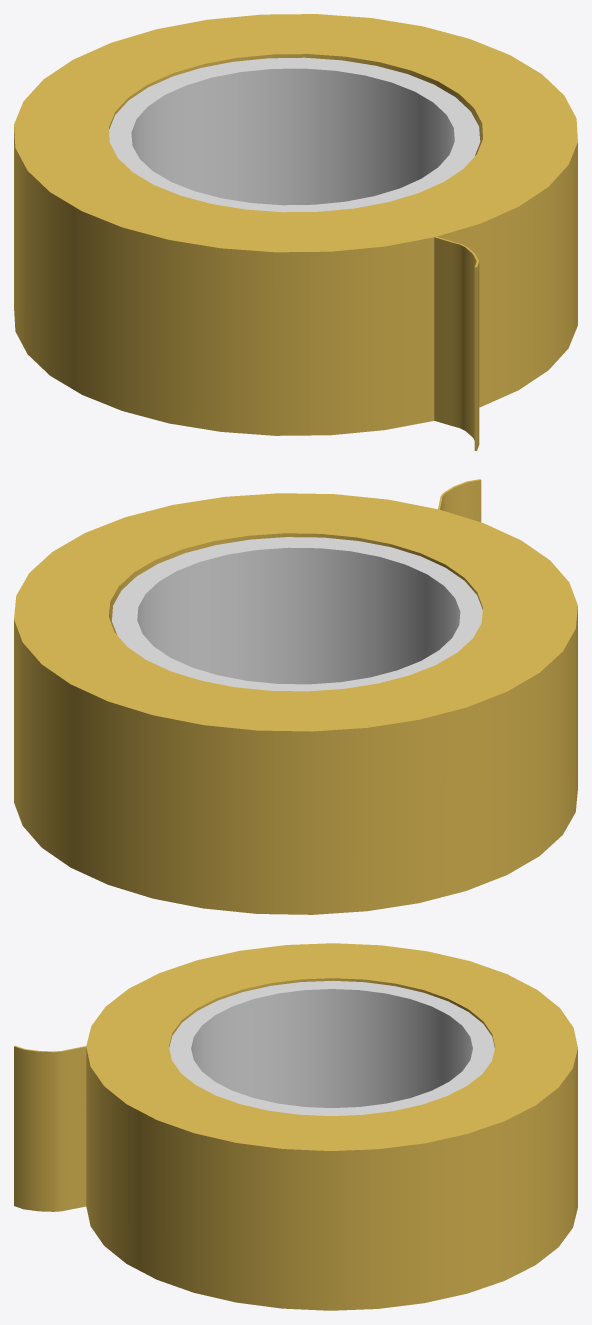
The model's file is koli_bandi.fbx.
3 renders of one model, top to bottom at view 1: azimuth 30°, elevation 25°; view 2: azimuth 150°, elevation 25°; view 3: azimuth 270°, elevation 25°, orthographic. The views are drawn at different scales.
Parts seen in each view (by area): view 1: Cylinder, Cylinder.001; view 2: Cylinder, Cylinder.001; view 3: Cylinder, Cylinder.001.
Boxes of the visible parts, x1,y1,x2,y2 form: Cylinder: (14,14,577,450); Cylinder.001: (109,57,480,212); Cylinder: (14,479,577,914); Cylinder.001: (112,537,482,691); Cylinder: (14,943,577,1310); Cylinder.001: (169,980,494,1115).
Bounding box in the file's own units: 16.11 × 5.77 × 18.47.
